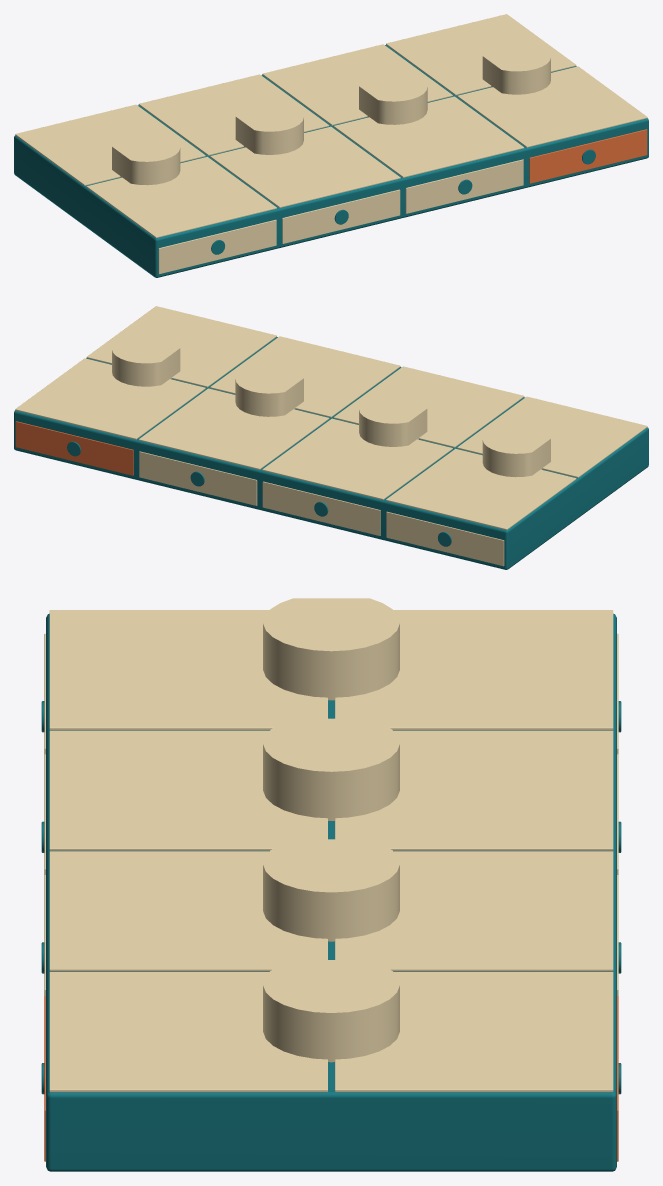
The model's file is plate-lod-0.glb.
3 views of the same model, one above another, from view 1: azimuth 30°, elevation 25°; view 2: azimuth 150°, elevation 25°; view 3: azimuth 270°, elevation 25° (orthographic). The views are drawn at different scales.
Parts seen in each view (by area): view 1: plate_lod_0; view 2: plate_lod_0; view 3: plate_lod_0.
Boxes of the visible parts, x1=… form: plate_lod_0: x1=14, y1=14, x2=648, y2=277; plate_lod_0: x1=14, y1=306, x2=648, y2=569; plate_lod_0: x1=41, y1=598, x2=621, y2=1171.
Bounding box in the file's own units: 4 × 0.5 × 2.03.
